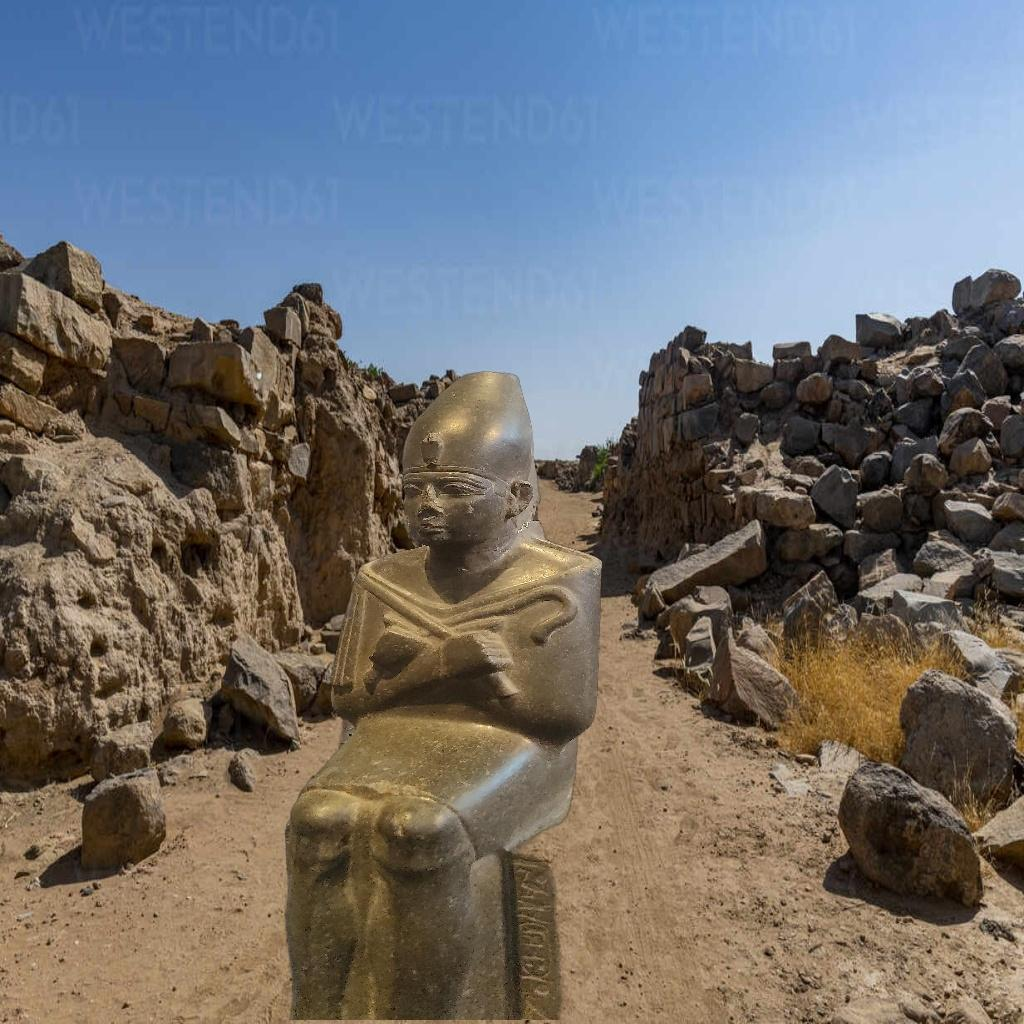Statue of Sobekhotep V: (280, 368, 609, 1020)
